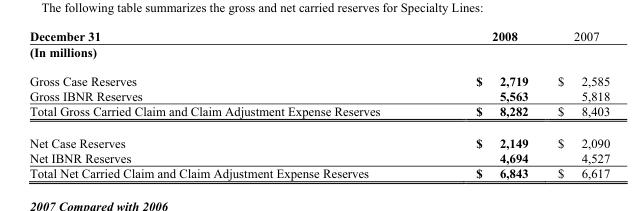table: (28, 28, 609, 180)
table column: (28, 28, 427, 180), (427, 28, 542, 180), (542, 28, 609, 180)
table column header: (28, 28, 609, 43)
table projected row header: (28, 43, 609, 66)
table row: (28, 126, 609, 150), (28, 43, 609, 66), (28, 103, 609, 126), (28, 66, 609, 88), (28, 28, 609, 43), (28, 88, 609, 103), (28, 150, 609, 165), (28, 165, 609, 180)
